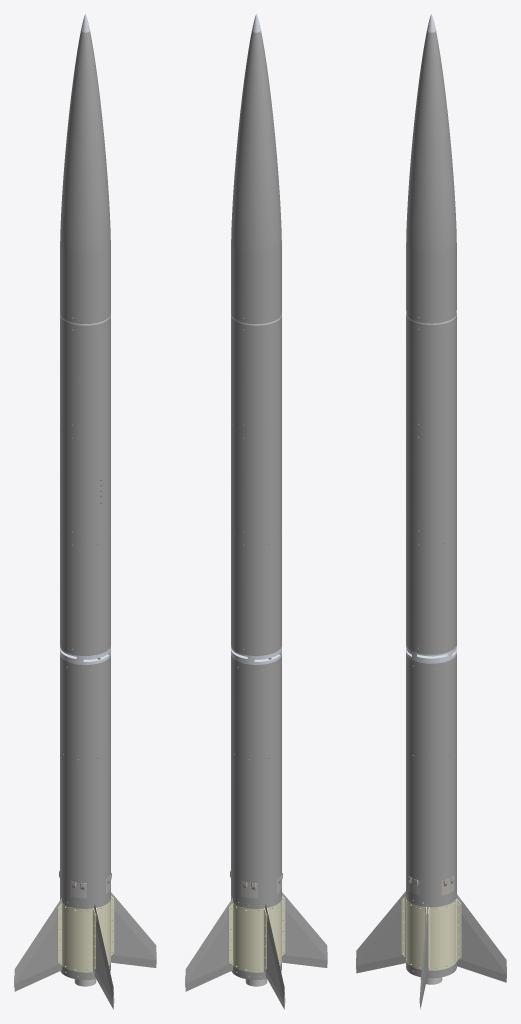
Rendered from udbhava.glb.
The picture shows the model from 3 angles, left to right: view 1: azimuth 30°, elevation 25°; view 2: azimuth 210°, elevation 25°; view 3: azimuth 270°, elevation 25°; orthographic projection.
Visible parts, largest first — view 1: lowerbodytube-1, carbon part of nose cone-1, Main Recovery Tube-1, Drogue Recovery Tube-1, 350mm body tube avionics bay-1, fincan-2, 5 deg bevel 2-3, 5 deg bevel 2-1, 5 deg bevel 2-2, fincan-1, coupler-1; view 2: lowerbodytube-1, carbon part of nose cone-1, Main Recovery Tube-1, Drogue Recovery Tube-1, 350mm body tube avionics bay-1, fincan-3, 5 deg bevel 2-1, 5 deg bevel 2-3, 5 deg bevel 2-4, fincan-4, coupler-1; view 3: lowerbodytube-1, carbon part of nose cone-1, Main Recovery Tube-1, Drogue Recovery Tube-1, 350mm body tube avionics bay-1, 5 deg bevel 2-4, 5 deg bevel 2-2, fincan-3, fincan-1, coupler-1, 5 deg bevel 2-1.
Boxes of the visible parts, bbox=[...] form: lowerbodytube-1: bbox=[60, 655, 110, 907]; carbon part of nose cone-1: bbox=[60, 31, 110, 323]; Main Recovery Tube-1: bbox=[60, 531, 110, 655]; Drogue Recovery Tube-1: bbox=[60, 316, 110, 431]; 350mm body tube avionics bay-1: bbox=[60, 423, 110, 539]; fincan-2: bbox=[57, 902, 95, 972]; 5 deg bevel 2-3: bbox=[14, 898, 61, 991]; 5 deg bevel 2-1: bbox=[111, 892, 156, 967]; 5 deg bevel 2-2: bbox=[94, 904, 114, 1009]; fincan-1: bbox=[96, 896, 114, 965]; coupler-1: bbox=[60, 646, 110, 670]; lowerbodytube-1: bbox=[231, 655, 281, 907]; carbon part of nose cone-1: bbox=[231, 31, 281, 323]; Main Recovery Tube-1: bbox=[231, 531, 281, 655]; Drogue Recovery Tube-1: bbox=[231, 316, 281, 431]; 350mm body tube avionics bay-1: bbox=[231, 423, 281, 539]; fincan-3: bbox=[228, 902, 266, 972]; 5 deg bevel 2-1: bbox=[185, 898, 232, 991]; 5 deg bevel 2-3: bbox=[282, 892, 327, 967]; 5 deg bevel 2-4: bbox=[265, 904, 285, 1009]; fincan-4: bbox=[267, 896, 285, 965]; coupler-1: bbox=[231, 646, 281, 670]; lowerbodytube-1: bbox=[406, 653, 456, 905]; carbon part of nose cone-1: bbox=[406, 31, 456, 323]; Main Recovery Tube-1: bbox=[406, 529, 456, 654]; Drogue Recovery Tube-1: bbox=[406, 314, 456, 430]; 350mm body tube avionics bay-1: bbox=[406, 422, 456, 538]; 5 deg bevel 2-4: bbox=[456, 894, 506, 982]; 5 deg bevel 2-2: bbox=[356, 891, 405, 973]; fincan-3: bbox=[428, 899, 461, 970]; fincan-1: bbox=[401, 896, 426, 969]; coupler-1: bbox=[406, 644, 456, 668]; 5 deg bevel 2-1: bbox=[419, 903, 428, 1009].
Size of the model in its own units: 0.4517 by 3.19 by 0.4517.
